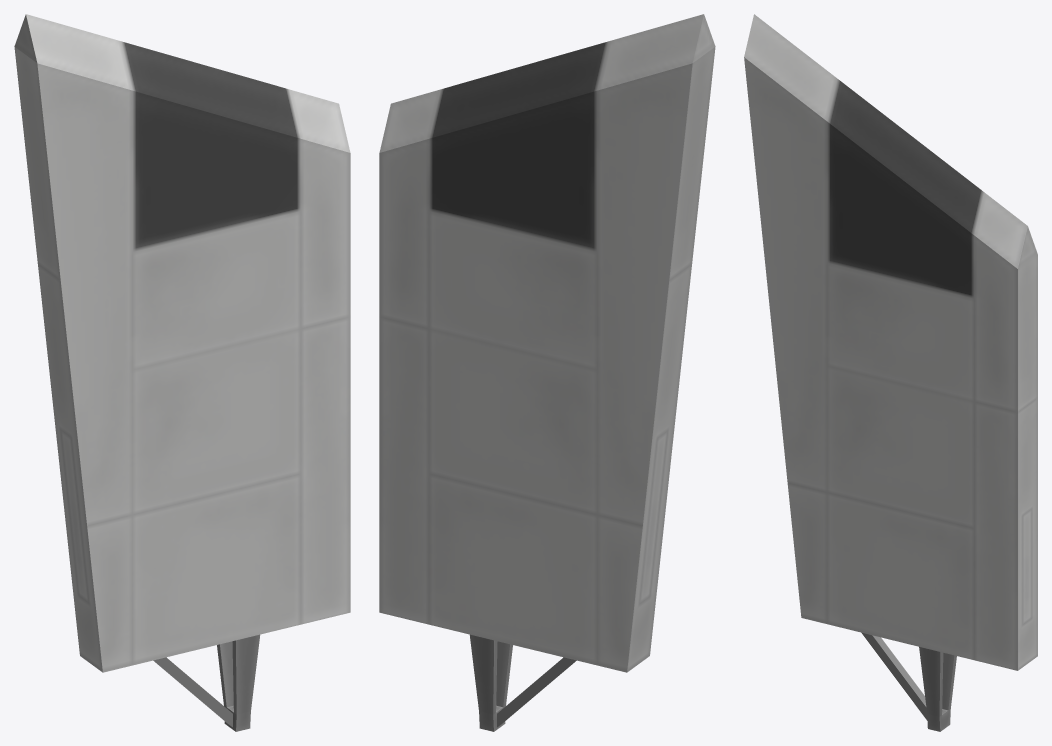
Rendered from Saturn_S1_SmallFin_New.dae.
3 renders of one model, left to right at view 1: azimuth 30°, elevation 25°; view 2: azimuth 150°, elevation 25°; view 3: azimuth 330°, elevation 25°, orthographic. The views are drawn at different scales.
Parts seen in each view (by area): view 1: S1_SmallFin4; view 2: S1_SmallFin4; view 3: S1_SmallFin4.
Boxes of the visible parts, x1=… form: S1_SmallFin4: x1=14, y1=14, x2=350, y2=731; S1_SmallFin4: x1=379, y1=14, x2=715, y2=731; S1_SmallFin4: x1=744, y1=14, x2=1037, y2=731.
Size of the model in its own units: 1.03 by 2.39 by 0.1302.
